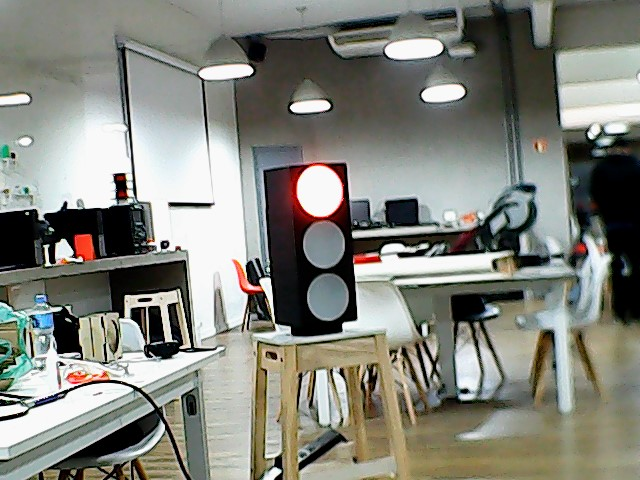vermelho: (261, 159, 368, 336)
